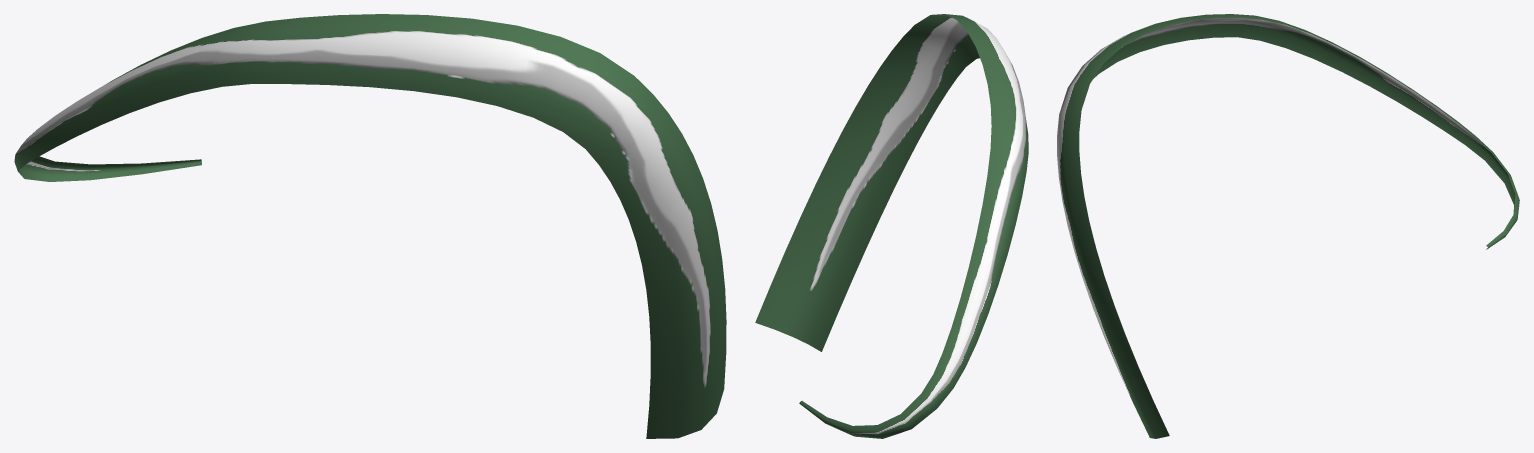
File: xuli_1.FBX
3 views of the same model, side by side, from view 1: azimuth 30°, elevation 25°; view 2: azimuth 150°, elevation 25°; view 3: azimuth 270°, elevation 25° (orthographic). The views are drawn at different scales.
Visible parts, largest first — view 1: Plane004; view 2: Plane004; view 3: Plane004.
Boxes of the visible parts, bbox=[...] form: Plane004: bbox=[14, 14, 726, 438]; Plane004: bbox=[755, 14, 1028, 438]; Plane004: bbox=[1057, 14, 1519, 438].
Bounding box in the file's own units: 225 × 210 × 268.
